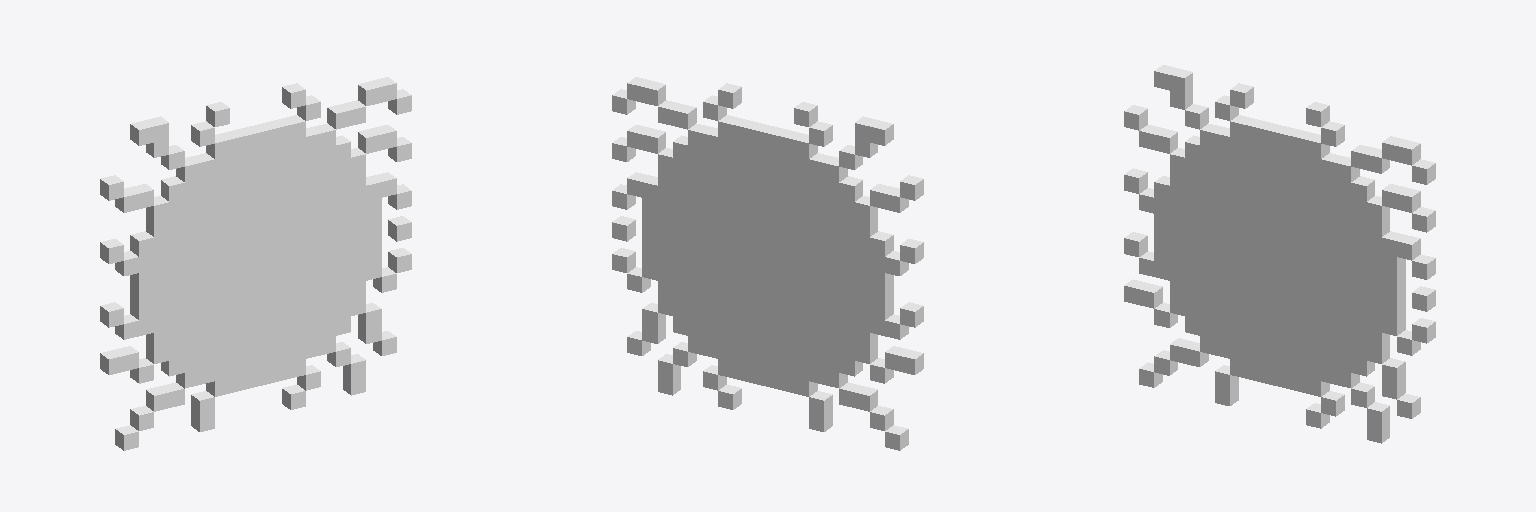
File: soul_3.obj
3 views of the same model, side by side, from view 1: azimuth 30°, elevation 25°; view 2: azimuth 150°, elevation 25°; view 3: azimuth 330°, elevation 25° (orthographic).
Visible parts, largest first — view 1: object 1; view 2: object 1; view 3: object 1.
Part boxes in pixels (left/top/right/bottom): object 1: left=100, top=77, right=411, bottom=450; object 1: left=612, top=77, right=923, bottom=450; object 1: left=1124, top=65, right=1435, bottom=443.
Size of the model in its own units: 2 by 2 by 0.1.